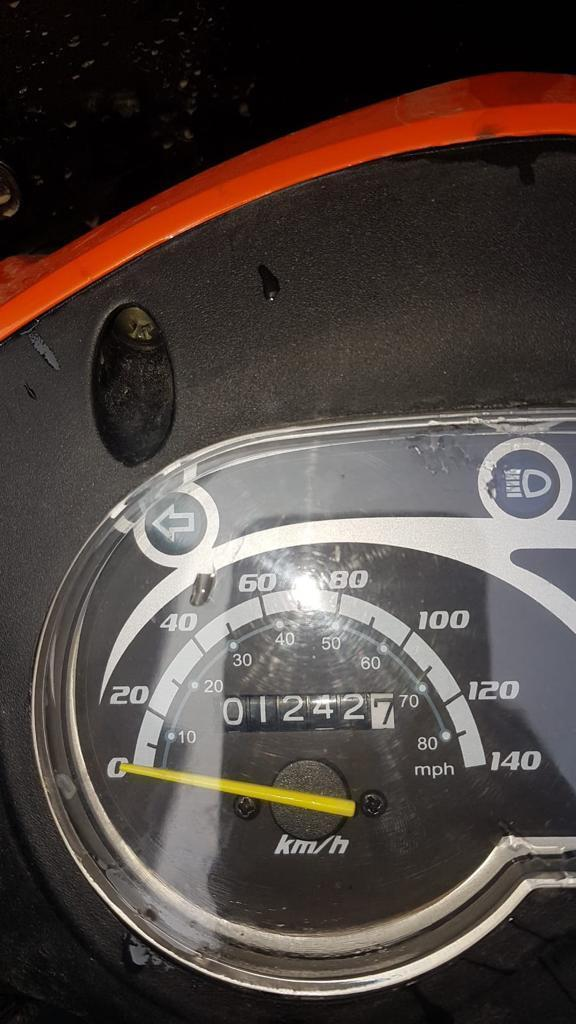0: (220, 694, 244, 726)
1: (254, 692, 271, 725)
2: (340, 691, 367, 721), (279, 693, 305, 723)
4: (311, 691, 335, 720)
7: (372, 695, 394, 726)
odometer: (206, 690, 396, 735)
